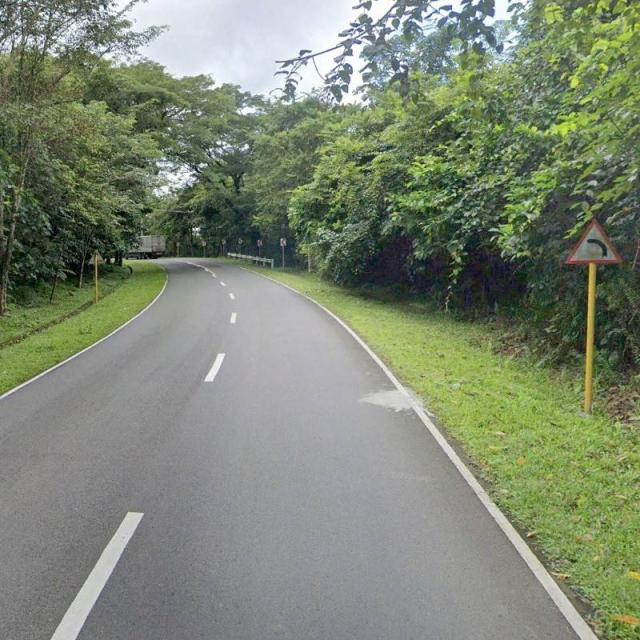warn_left_curve: (564, 218, 623, 265)
